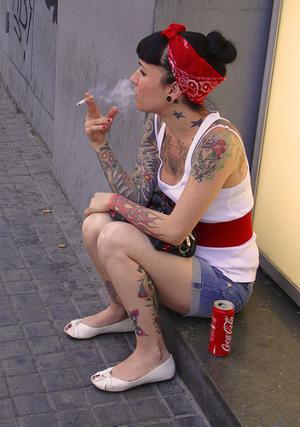person: (67, 22, 262, 396)
